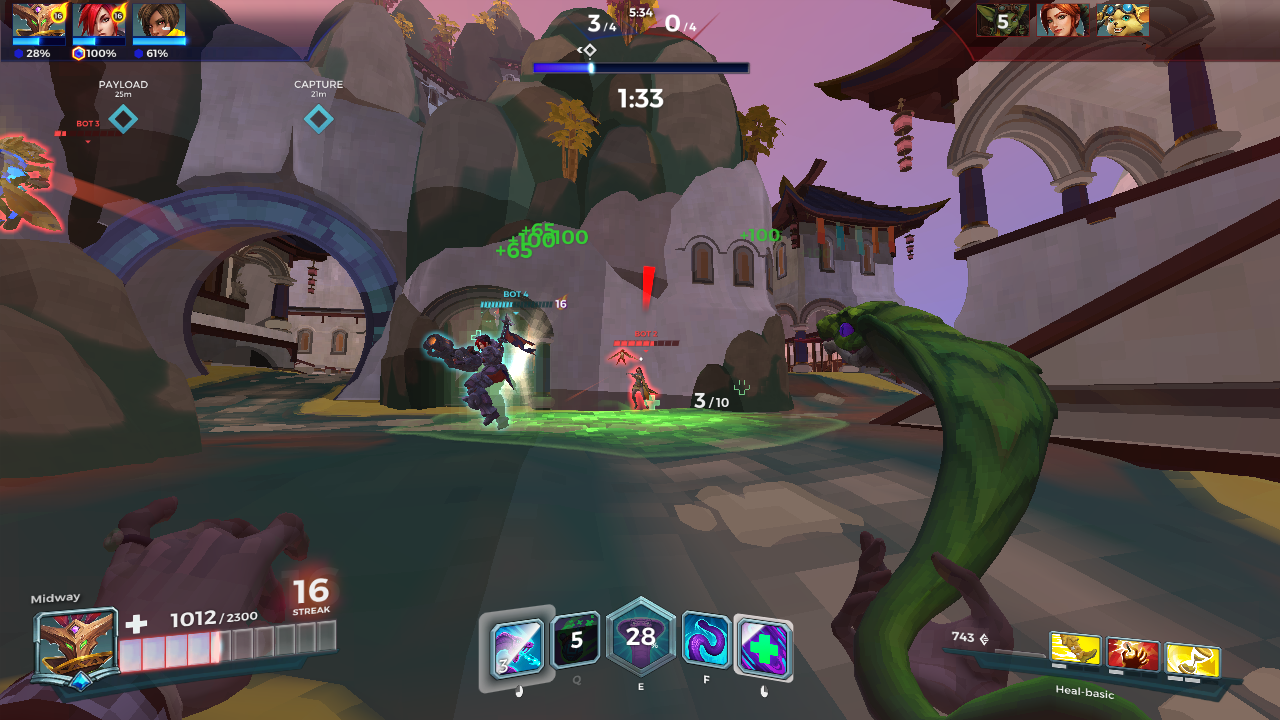model: (627, 361, 650, 404)
